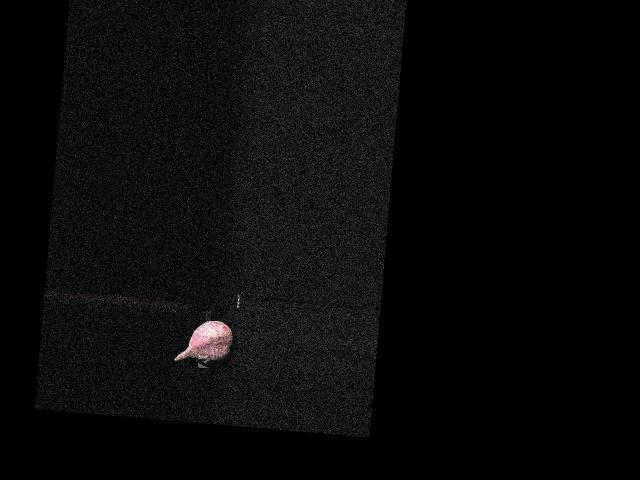beet: (174, 317, 233, 364)
